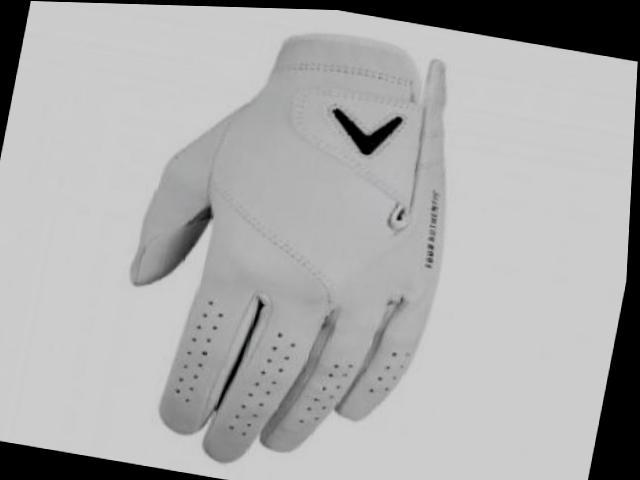Hand-in-Glove: (90, 3, 500, 480)
